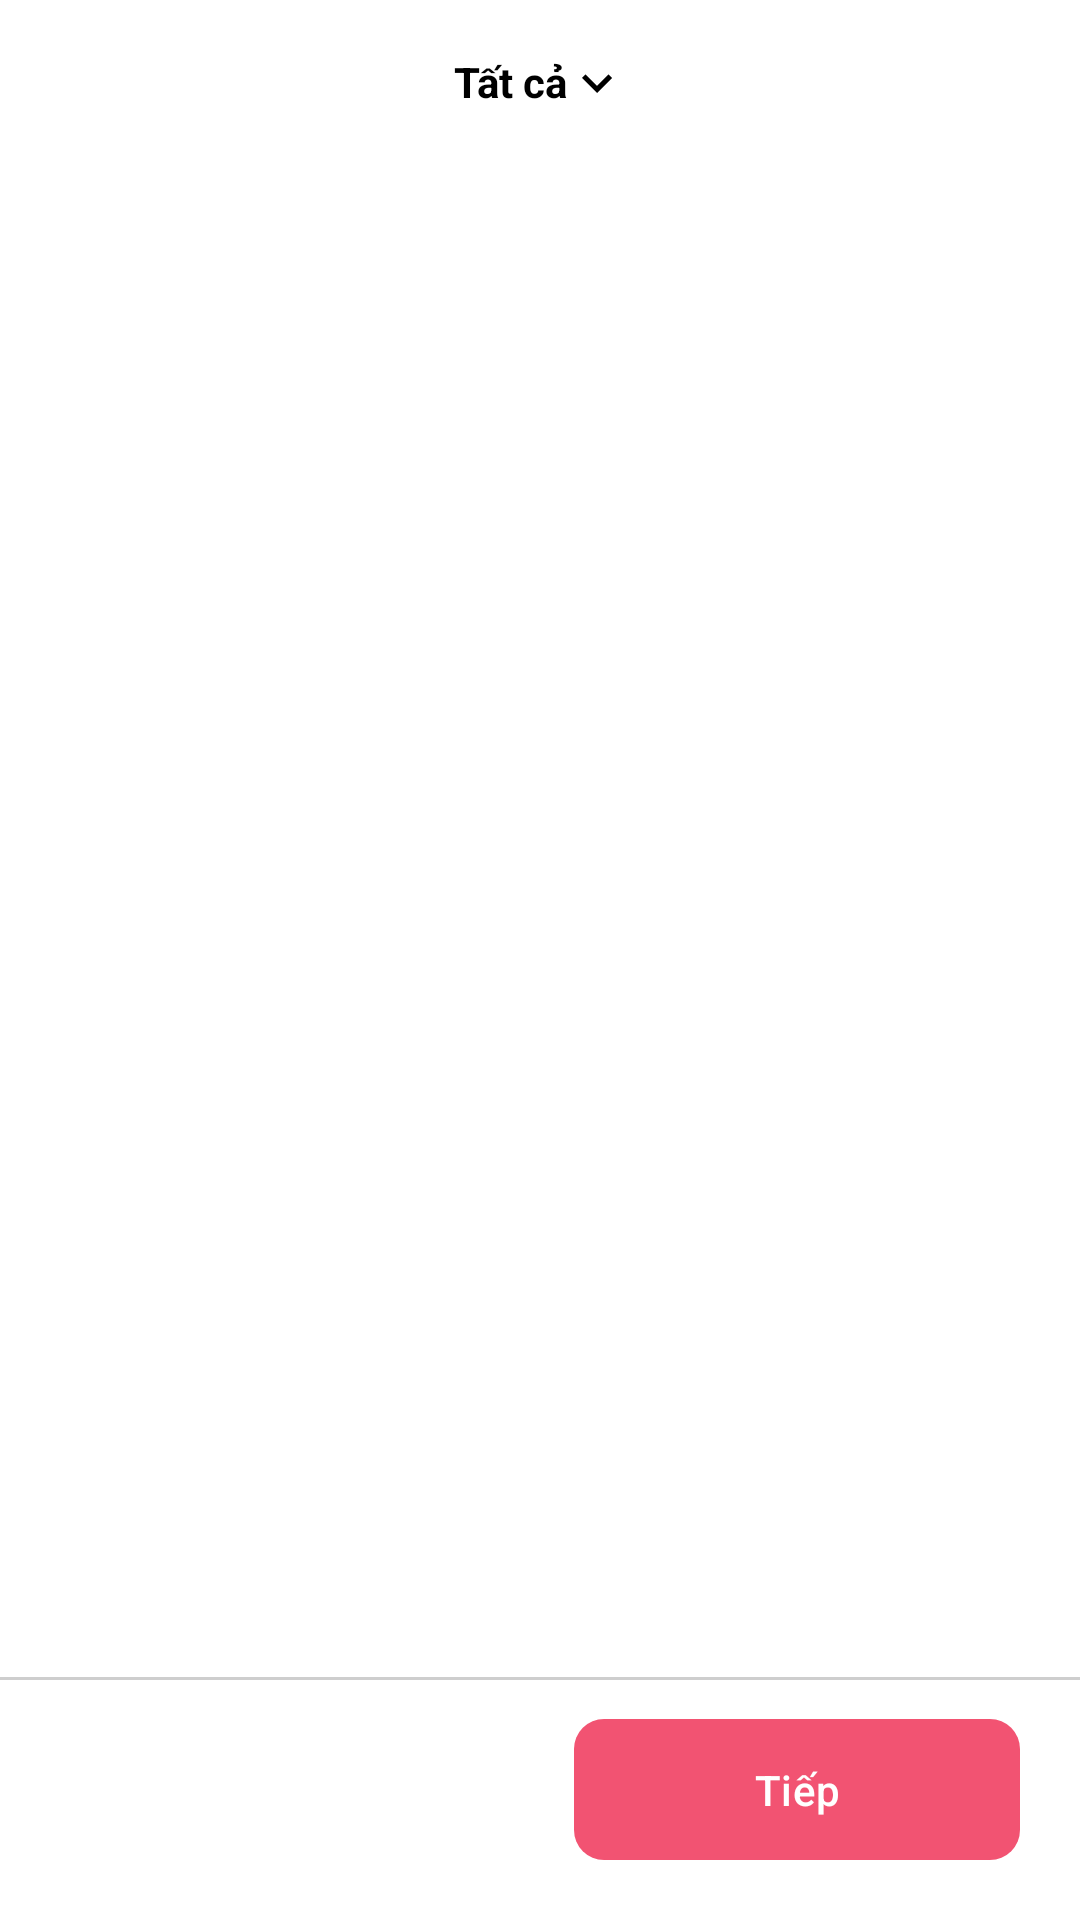

Where to tap for icons on this 1080px×1920px app screen, as point (x, y):
down arrow: point (597, 83)
